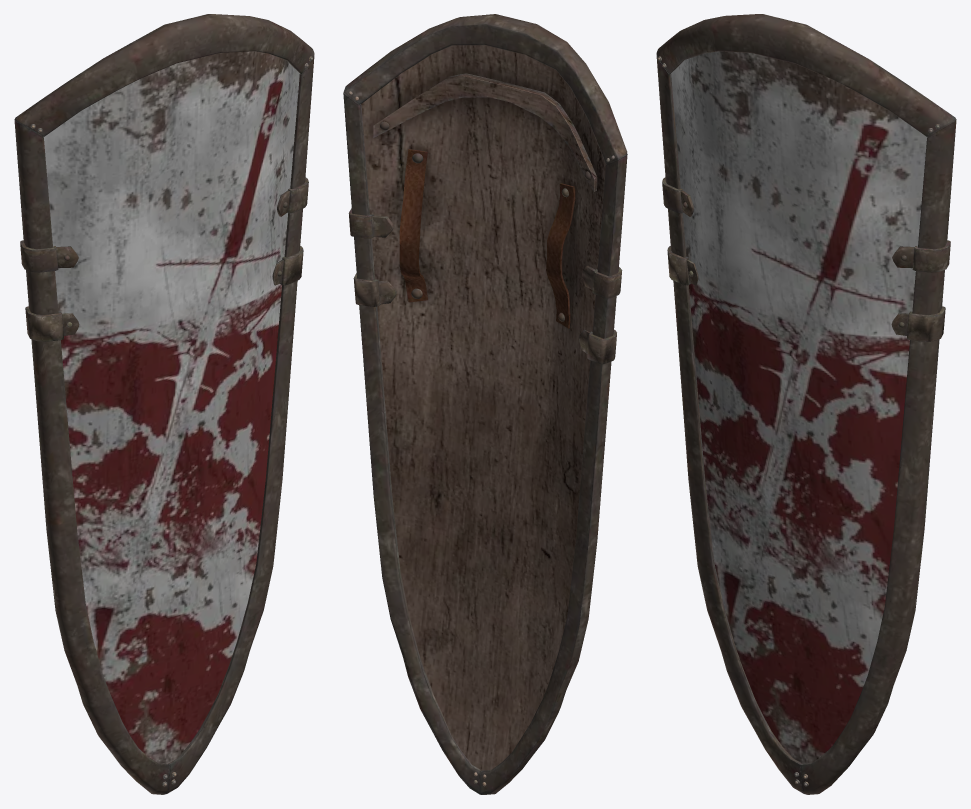
The model's file is kite_shield.glb.
3 views of the same model, side by side, from view 1: azimuth 30°, elevation 25°; view 2: azimuth 150°, elevation 25°; view 3: azimuth 330°, elevation 25° (orthographic). The views are drawn at different scales.
Visible parts, largest first — view 1: kite_shield_body, kite_shield_metal_trim; view 2: kite_shield_body, kite_shield_metal_trim; view 3: kite_shield_body, kite_shield_metal_trim.
Boxes of the visible parts, left/top/right/bottom form: kite_shield_body: left=43, top=51, right=299, bottom=764; kite_shield_metal_trim: left=14, top=14, right=314, bottom=794; kite_shield_body: left=361, top=45, right=606, bottom=770; kite_shield_metal_trim: left=343, top=14, right=627, bottom=794; kite_shield_body: left=671, top=51, right=927, bottom=763; kite_shield_metal_trim: left=656, top=14, right=956, bottom=794.
Size of the model in its own units: 0.5433 by 1.39 by 0.1347.
2 materials, 2 textured.
